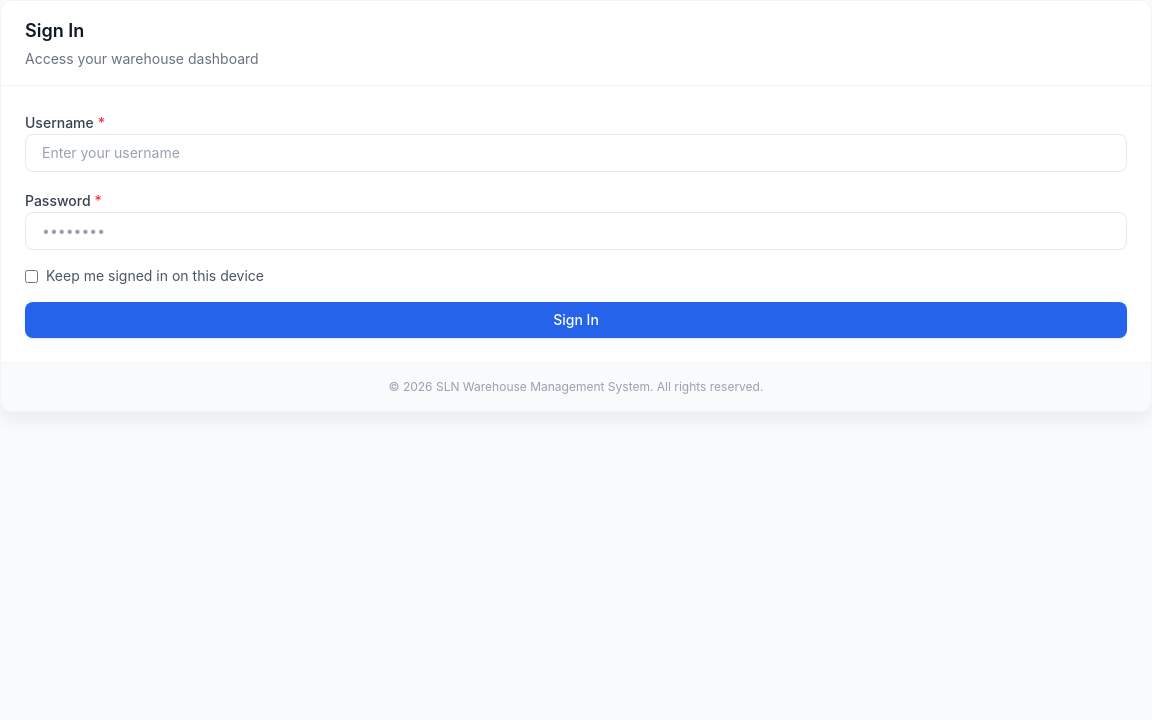
Test: Full Frontend Flow Integration Tests › Login Flow › should show error message on login failure
Type "wrong" into the field labelled "Username*" at (576, 153), box [25, 134, 1127, 172]
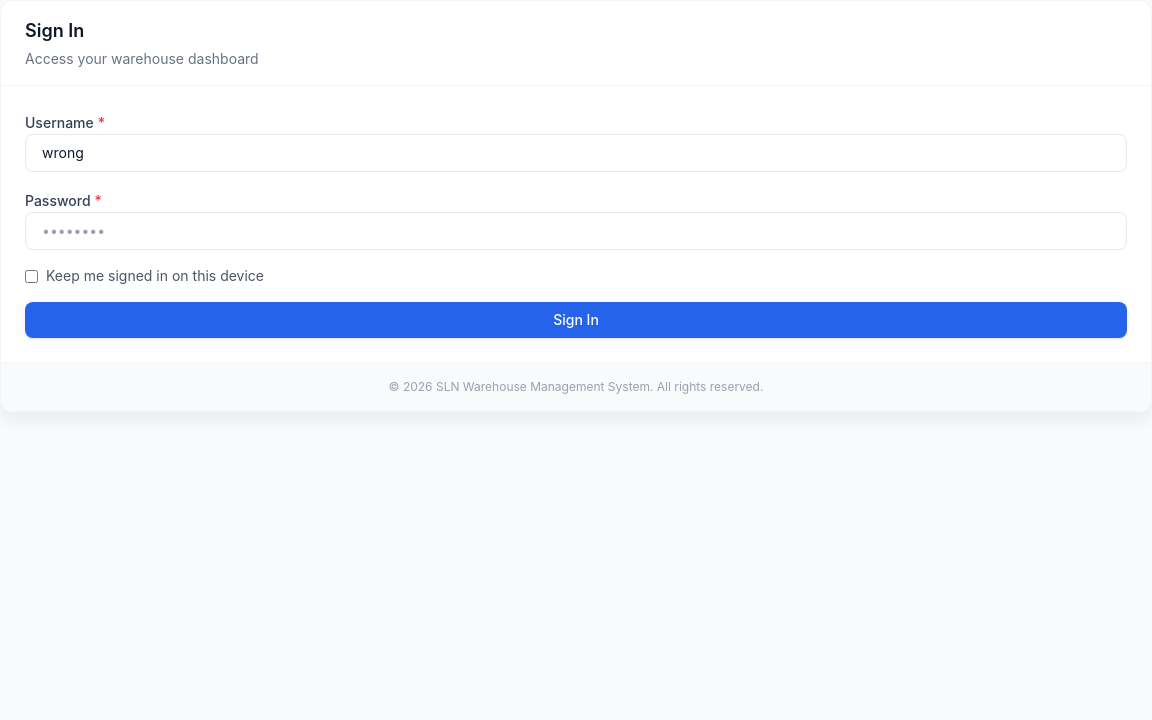
Type "wrong" into the password field labelled "Password*" at (576, 231), box [25, 212, 1127, 250]
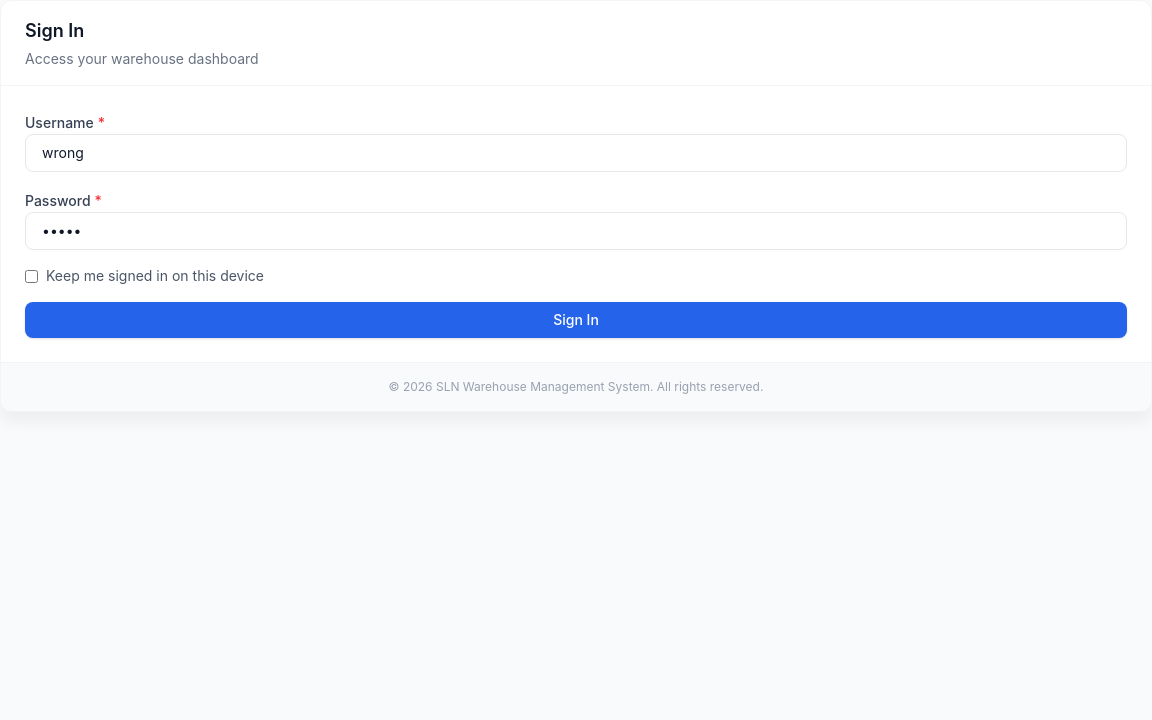
Click the button "Sign In" at (576, 320), box [25, 302, 1127, 338]
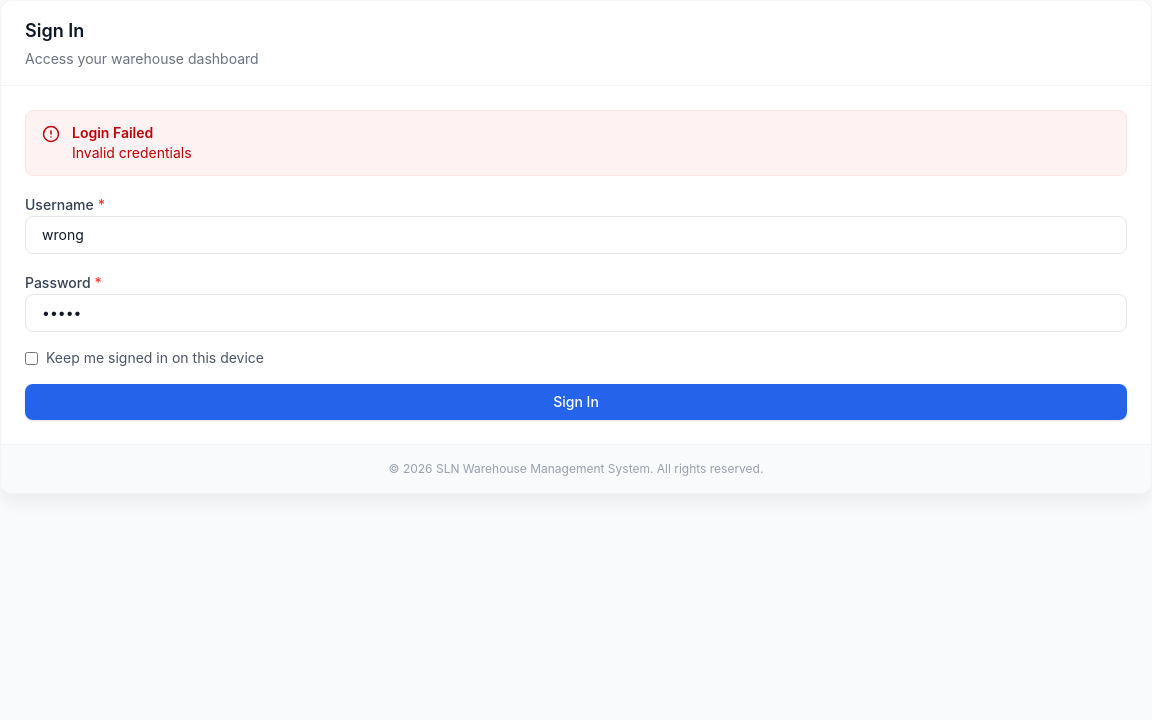
Check: the text "Login Failed" is shown, box [72, 124, 153, 141]
Check: the text "Invalid credentials" is shown, box [72, 143, 192, 163]
